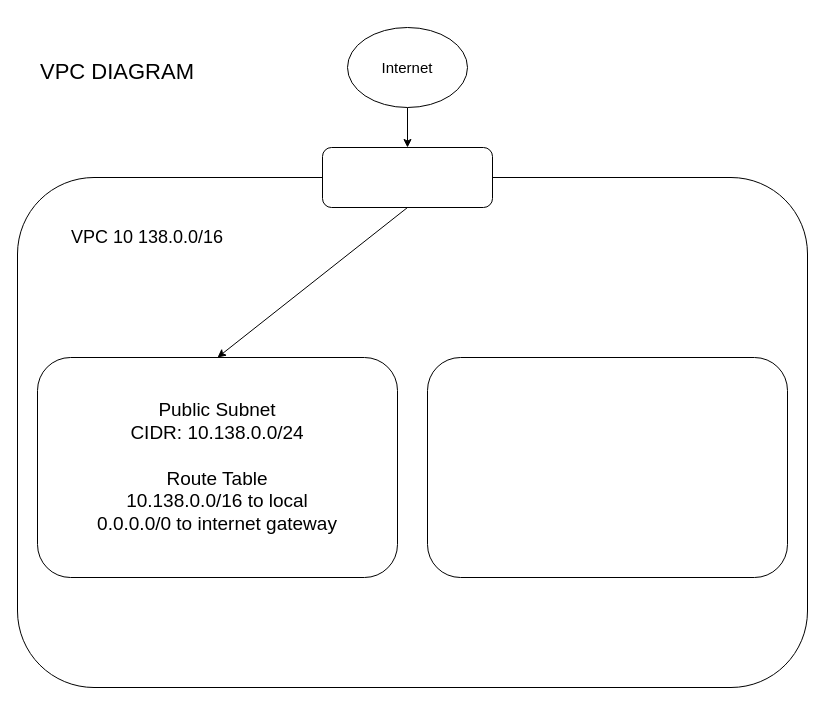
This 825x705 diagram has some shape labels left out. Each missing label, with the centre of its shape:
Internet Gateway: the point at 407,177
Private Subnet CIDR: 10.138.1.0/24 Route Table 10.138.0.0/16 to local: the point at 607,467
